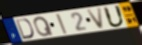2: (71, 11, 89, 32)
D: (15, 18, 35, 40)
I: (55, 13, 69, 36)
Q: (33, 16, 55, 38)
U: (103, 5, 127, 29)
V: (86, 7, 104, 30)
